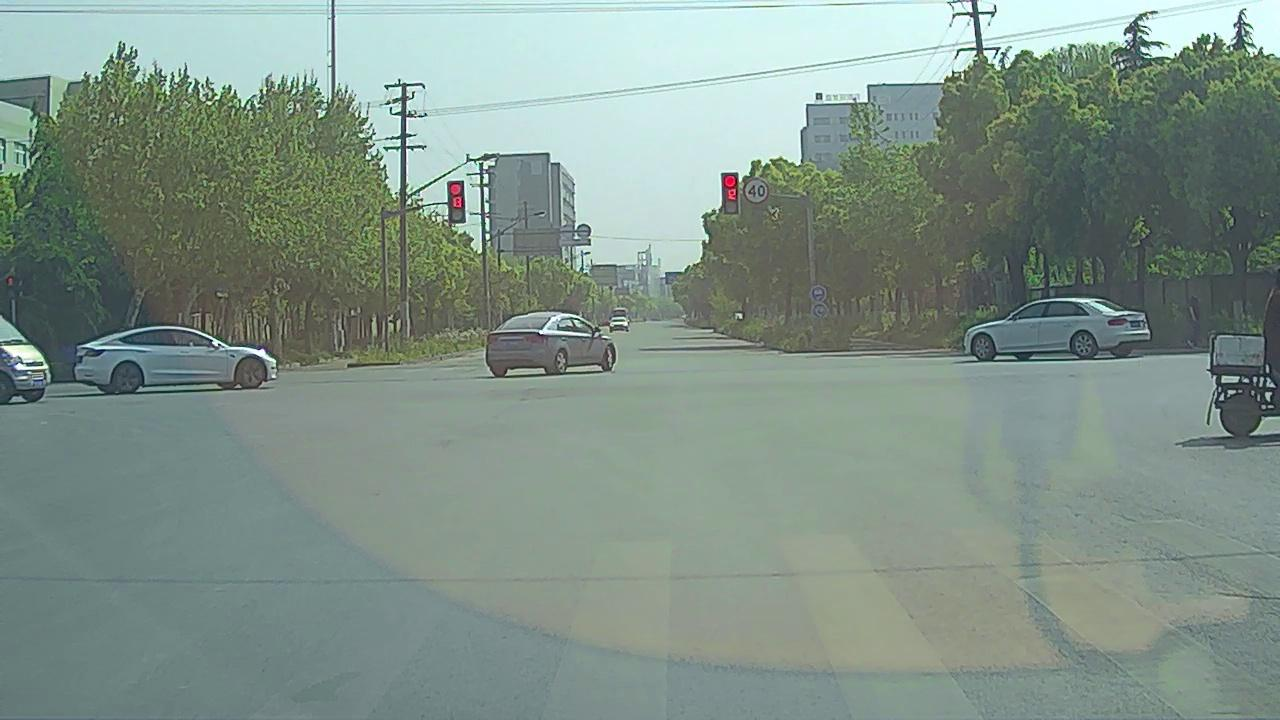traffic_light: (447, 180, 466, 222), (722, 173, 740, 214)
